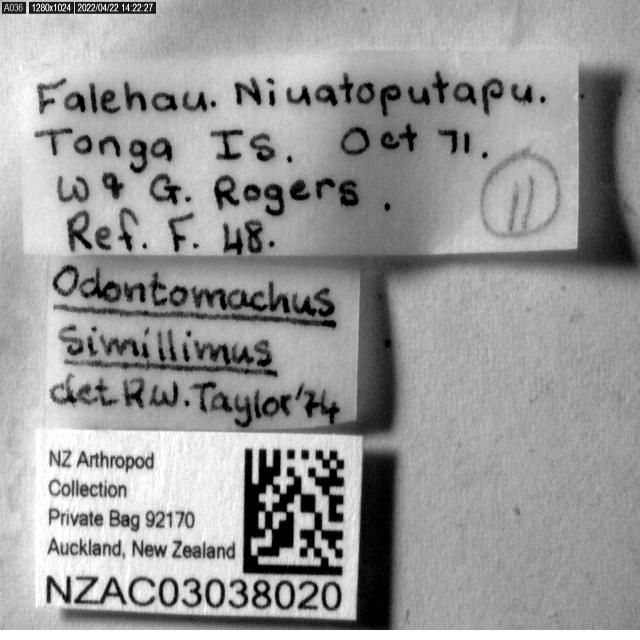hand_label: (22, 52, 579, 256), (45, 256, 360, 430)
typed_label: (36, 430, 362, 620)
